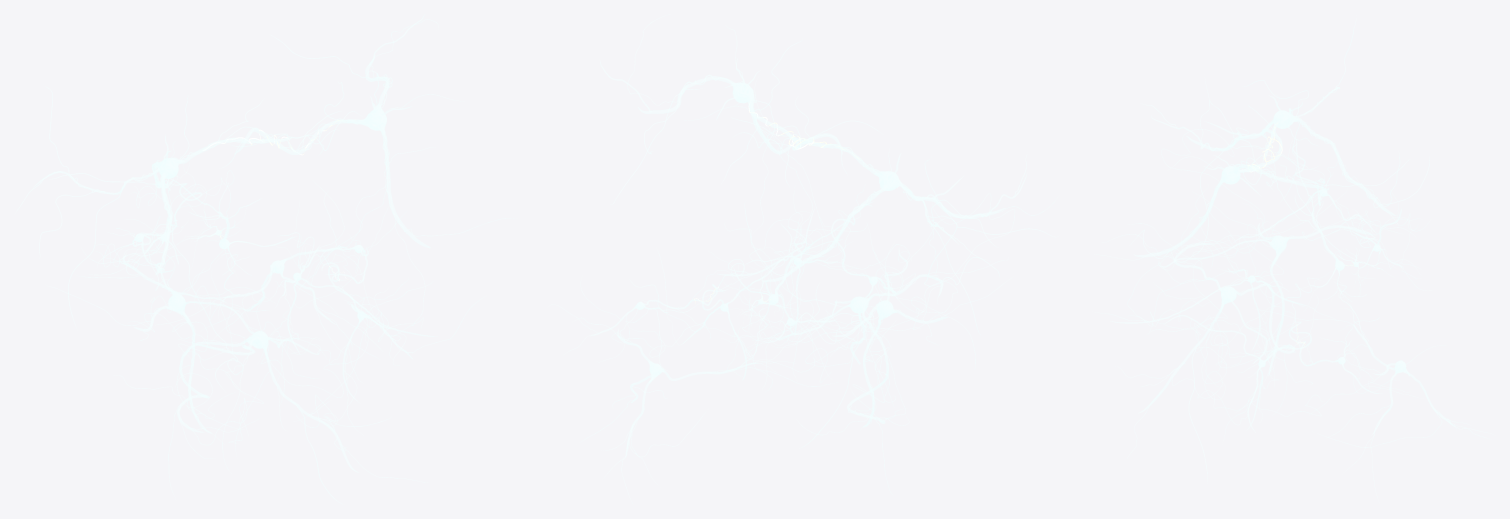
The model's file is Neuron-transformed.glb.
3 views of the same model, side by side, from view 1: azimuth 30°, elevation 25°; view 2: azimuth 150°, elevation 25°; view 3: azimuth 270°, elevation 25° (orthographic). The views are drawn at different scales.
Visible parts, largest first — view 1: Toon_geo; view 2: Toon_geo; view 3: Toon_geo.
Part boxes in pixels (box(x1,y1,x2,y2)): Toon_geo: box(16, 14, 513, 503); Toon_geo: box(550, 14, 1057, 503); Toon_geo: box(1094, 18, 1493, 497).
Size of the model in its own units: 21.3 by 20.17 by 19.06.
